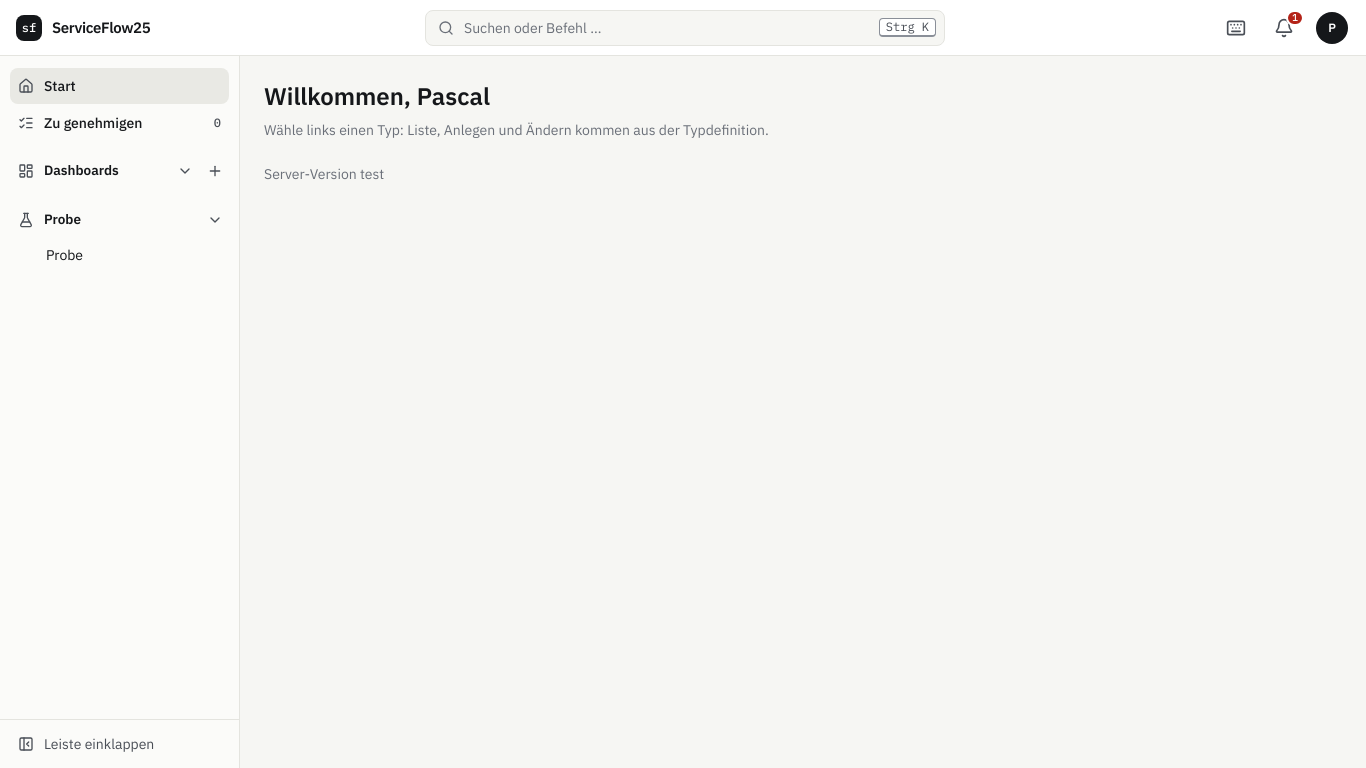
Test: Header › marks everything read
Click the button named "Benachrichtigungen, 1 neu" at (1284, 28), box x1=1262 y1=6 x2=1306 y2=50
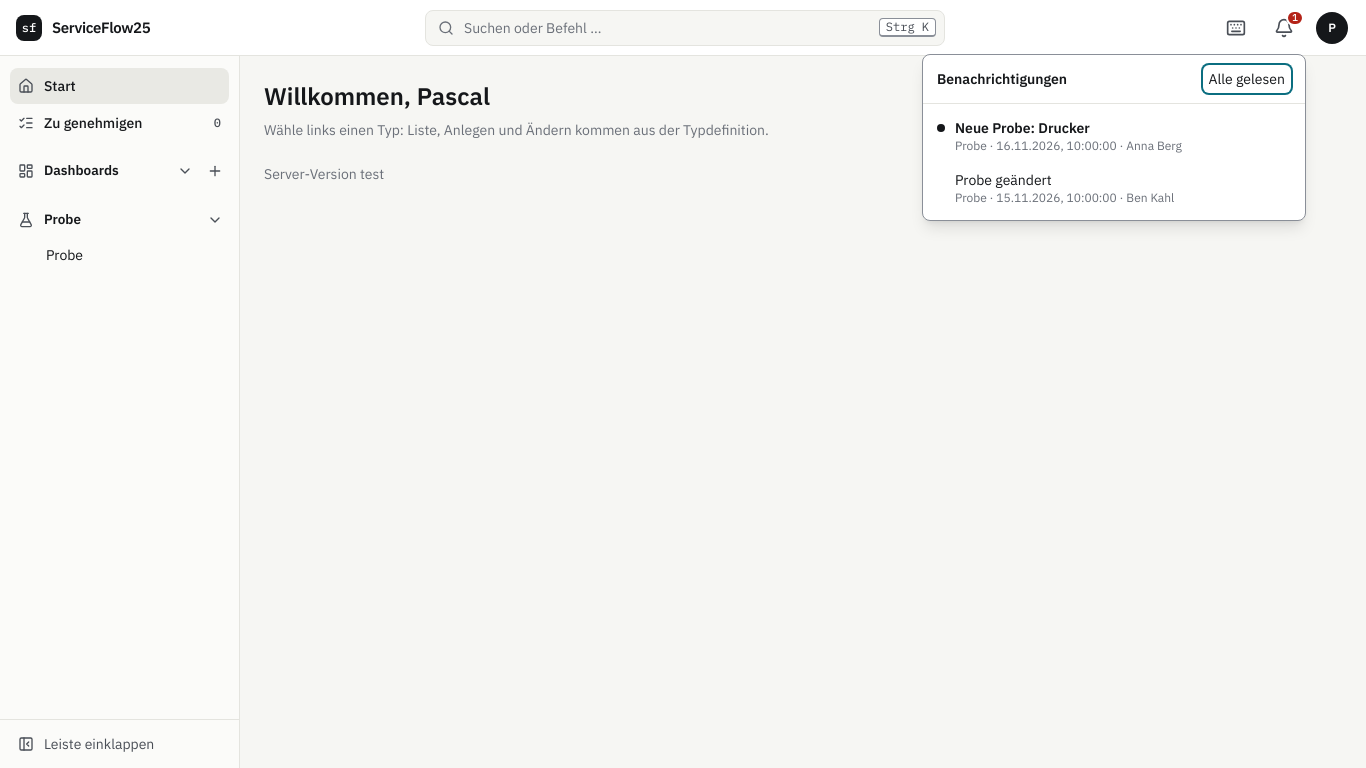
Click the button "Alle gelesen" at (1247, 78), box x1=1202 y1=64 x2=1291 y2=92
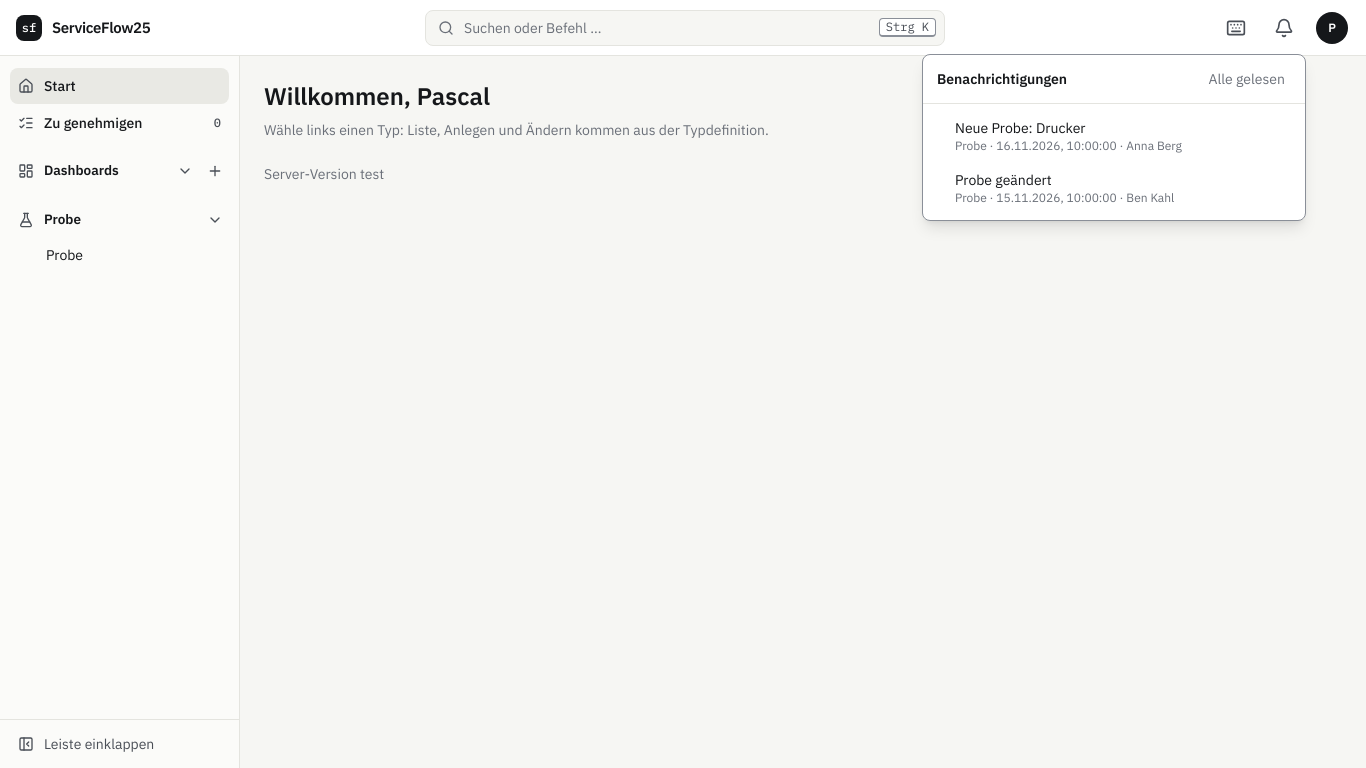
Expected: the button named "Benachrichtigungen" is shown, x1=1262 y1=6 x2=1306 y2=50
Expected: the button "Alle gelesen" is disabled, x1=1202 y1=64 x2=1291 y2=92
